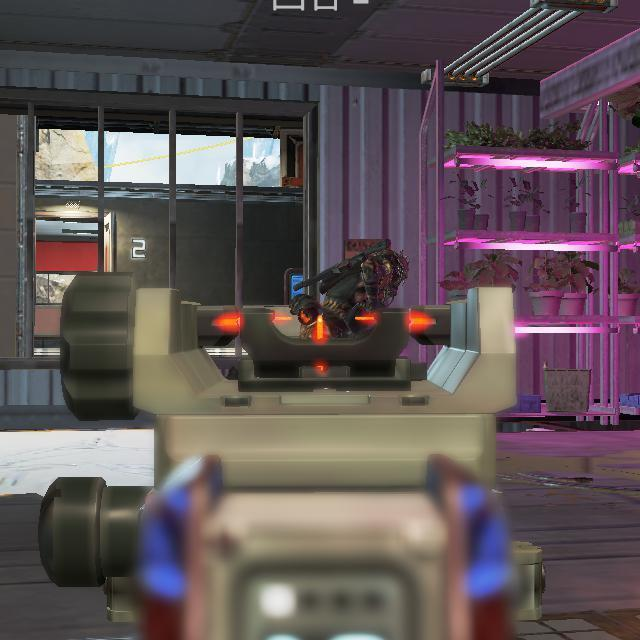avatar: (287, 246, 412, 341)
